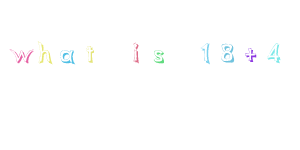+: (244, 47, 256, 63)
1: (199, 42, 211, 63)
4: (266, 41, 281, 63)
8: (220, 42, 234, 62)
a: (59, 48, 75, 64)
h: (38, 41, 52, 64)
i: (130, 42, 141, 63)
s: (152, 49, 165, 63)
t: (85, 45, 95, 63)
w: (10, 49, 33, 63)
